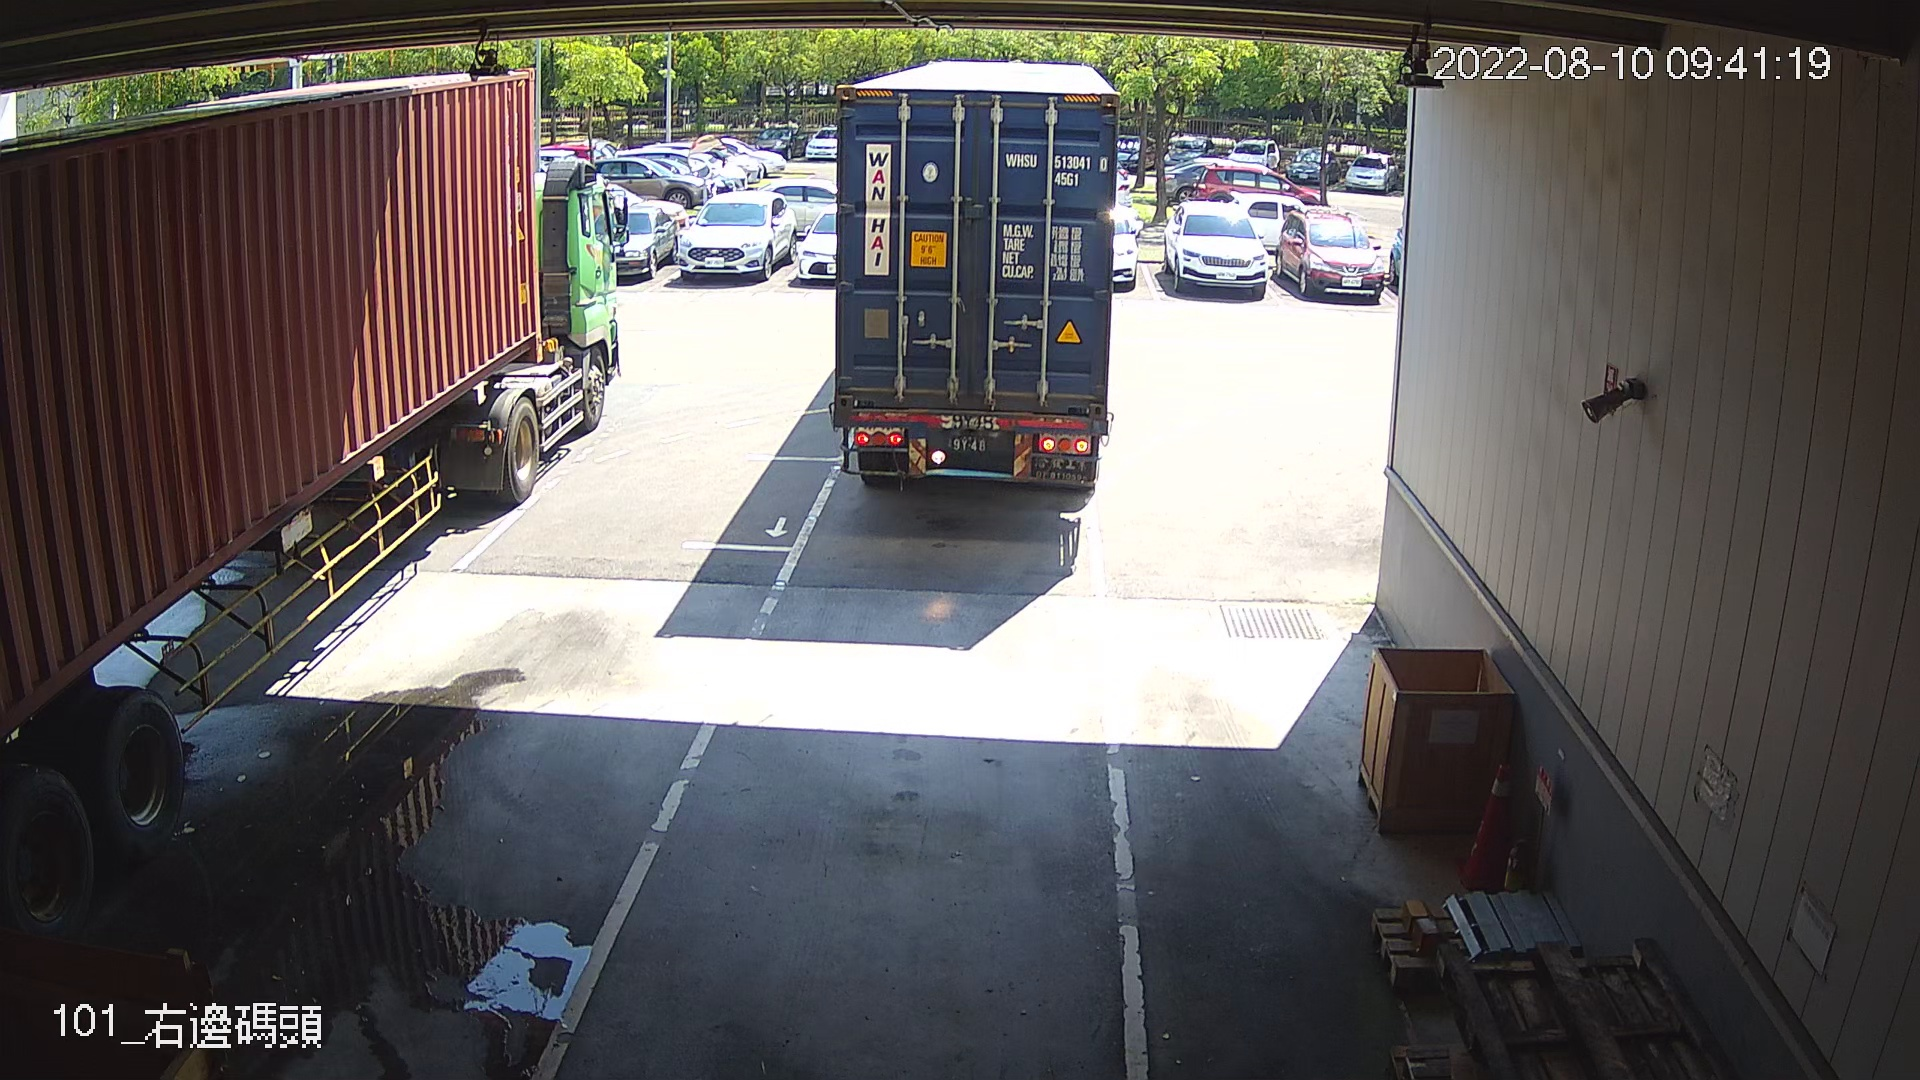container: (1000, 144, 1109, 193)
